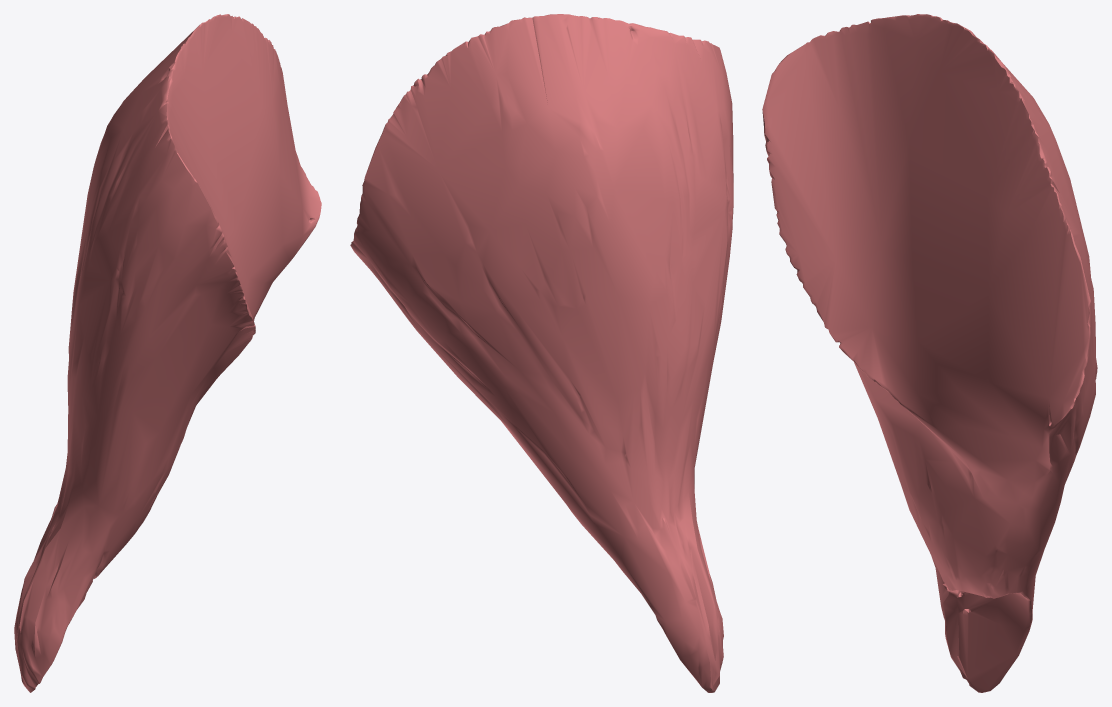
3 renders of one model, left to right at view 1: azimuth 30°, elevation 25°; view 2: azimuth 150°, elevation 25°; view 3: azimuth 270°, elevation 25°, orthographic. The views are drawn at different scales.
Parts seen in each view (by area): view 1: FJ1420; view 2: FJ1420; view 3: FJ1420.
Boxes of the visible parts, box(x1,y1,x2,y2) form: FJ1420: box(14, 14, 321, 692); FJ1420: box(350, 14, 733, 692); FJ1420: box(762, 14, 1097, 692).
Bounding box in the file's own units: 0.077 × 0.1392 × 0.0556.
